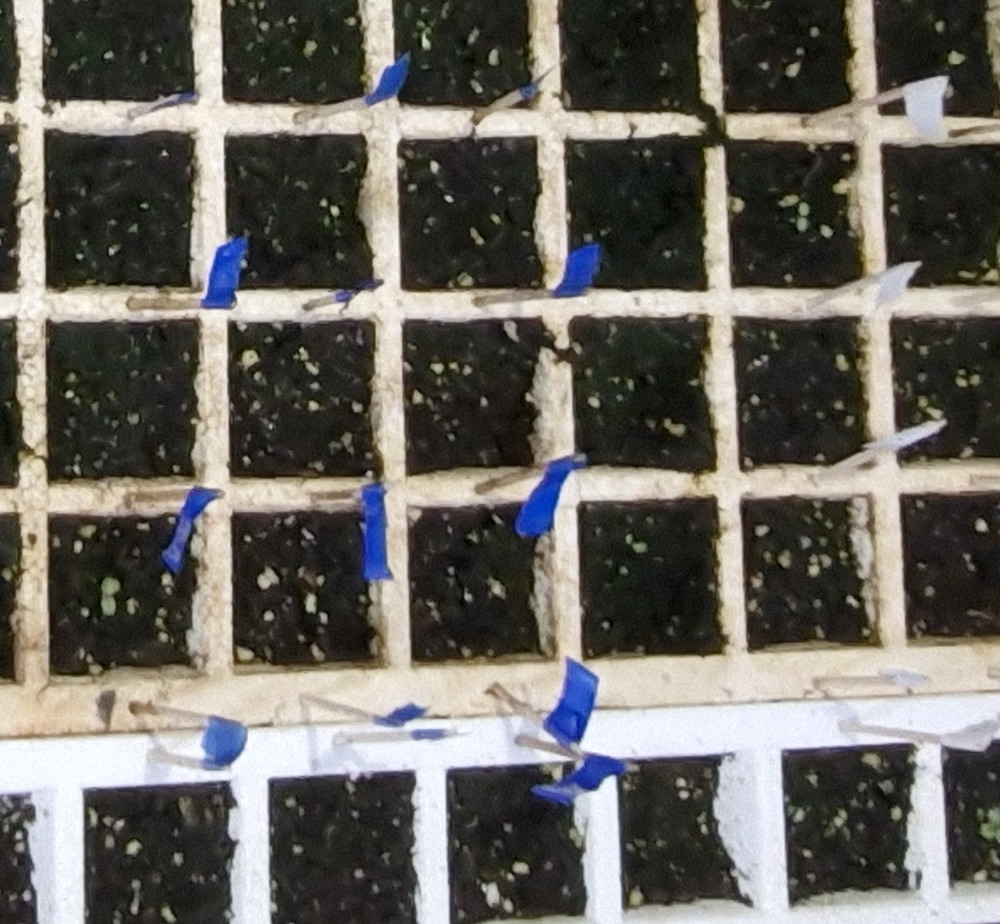Folha: (103, 578, 119, 595), (102, 597, 116, 615), (797, 218, 808, 231), (800, 202, 810, 215)
Germinacao: (100, 576, 120, 615), (796, 202, 810, 232)
